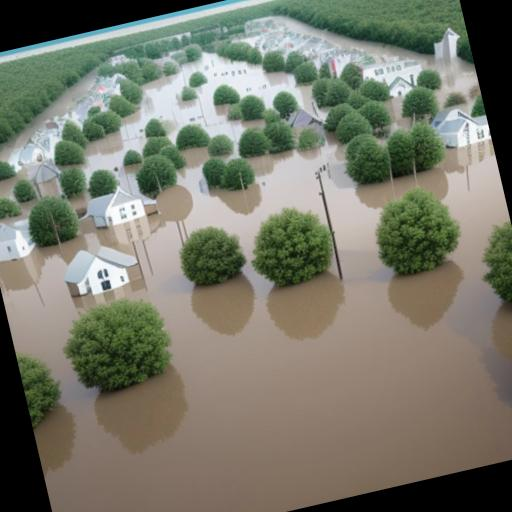flood: (0, 140, 512, 496), (43, 333, 512, 512), (82, 52, 313, 194), (281, 16, 478, 108), (0, 213, 161, 291), (0, 68, 96, 161), (0, 166, 36, 201), (0, 198, 36, 226), (386, 95, 413, 132), (142, 31, 190, 44), (181, 147, 209, 168), (154, 50, 182, 66), (395, 176, 416, 196), (109, 54, 137, 66)
house: (57, 234, 145, 302), (84, 178, 150, 236), (358, 51, 430, 102), (430, 98, 492, 154), (0, 207, 36, 264), (26, 160, 68, 204), (286, 102, 322, 132)
